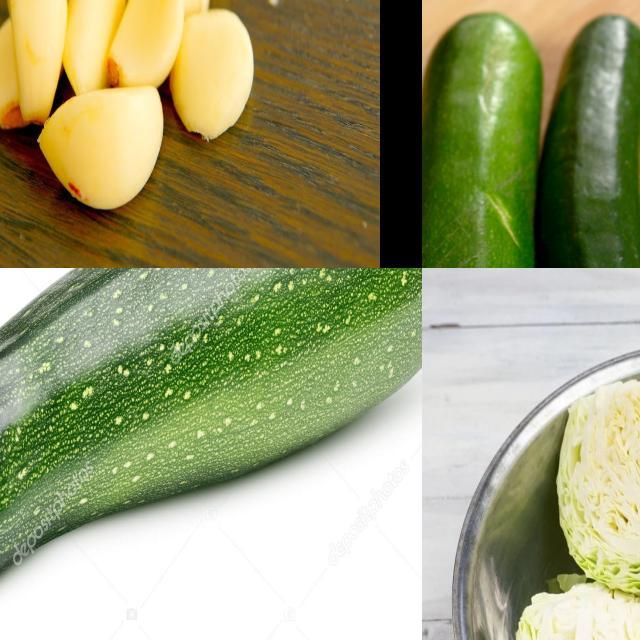cabbage: (557, 367, 640, 613)
garlic: (1, 1, 258, 226)
zucchini: (1, 269, 423, 571), (423, 5, 588, 269)
